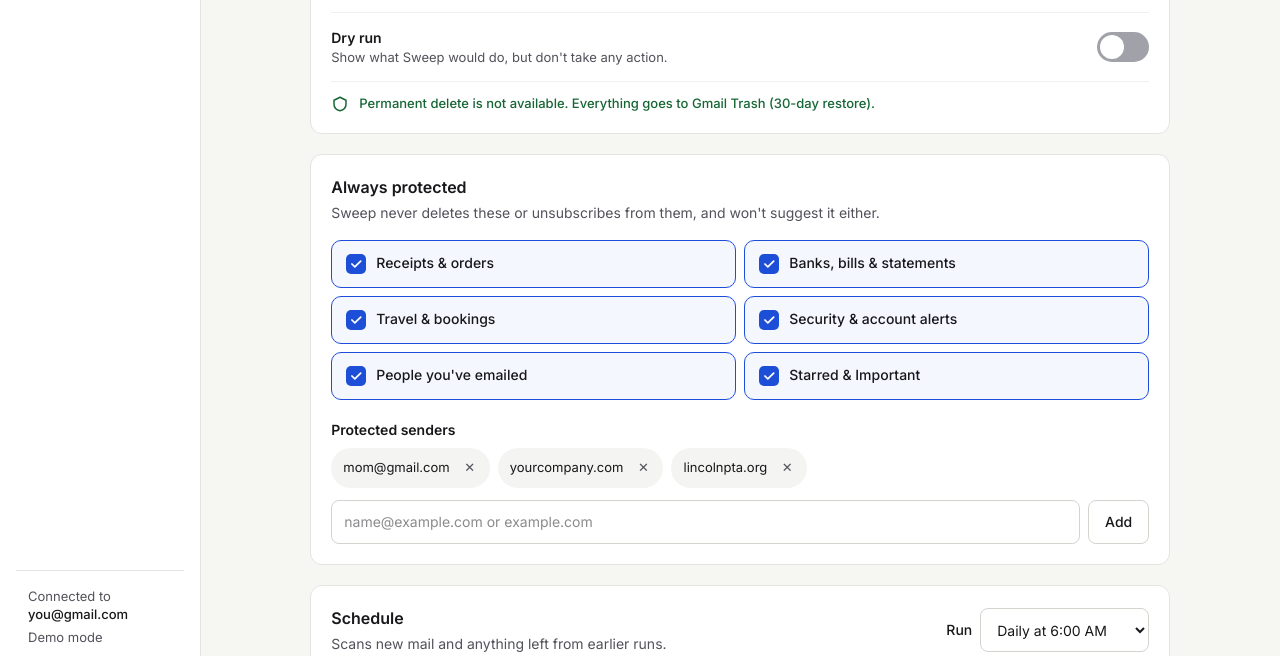
Scenario: Rules & safety › saves a protected category toggle
(page scrolled)
Expected: the heading "Always protected" is shown, [331,177,467,197]
Click the checkbox labelled "Travel & bookings" at coordinates (436, 319), box [331,296,736,344]
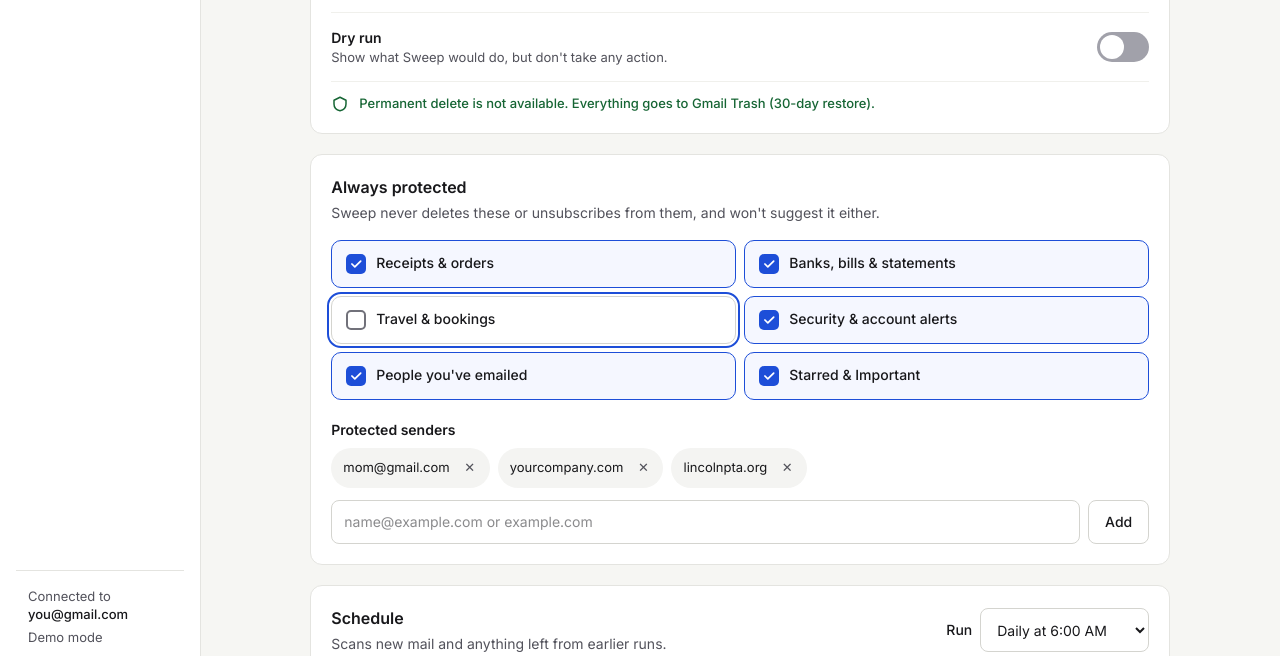
Expected: the checkbox labelled "Travel & bookings" is not checked, [331,296,736,344]
